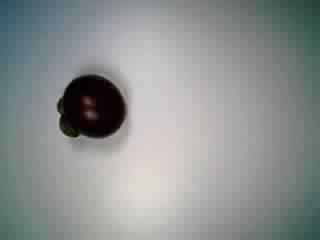mangosteen: (54, 70, 131, 149)
